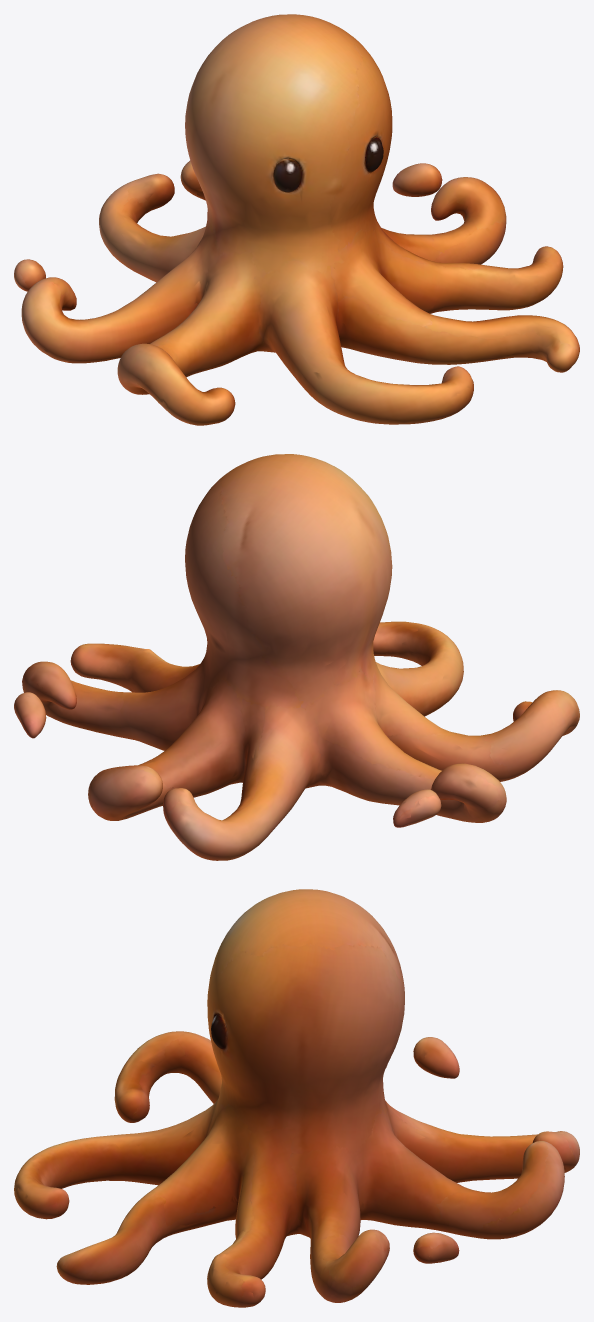
File: octopus_pbr.glb
3 renders of one model, top to bottom at view 1: azimuth 30°, elevation 25°; view 2: azimuth 150°, elevation 25°; view 3: azimuth 270°, elevation 25°, orthographic.
Visible parts, largest first — view 1: model; view 2: model; view 3: model.
Boxes of the visible parts, x1=… form: model: x1=14, y1=14, x2=579, y2=425; model: x1=14, y1=454, x2=579, y2=860; model: x1=14, y1=889, x2=579, y2=1307.
Bounding box in the file's own units: 1.82 × 1.1 × 1.83.
Materials: 1 (1 with a texture image).
